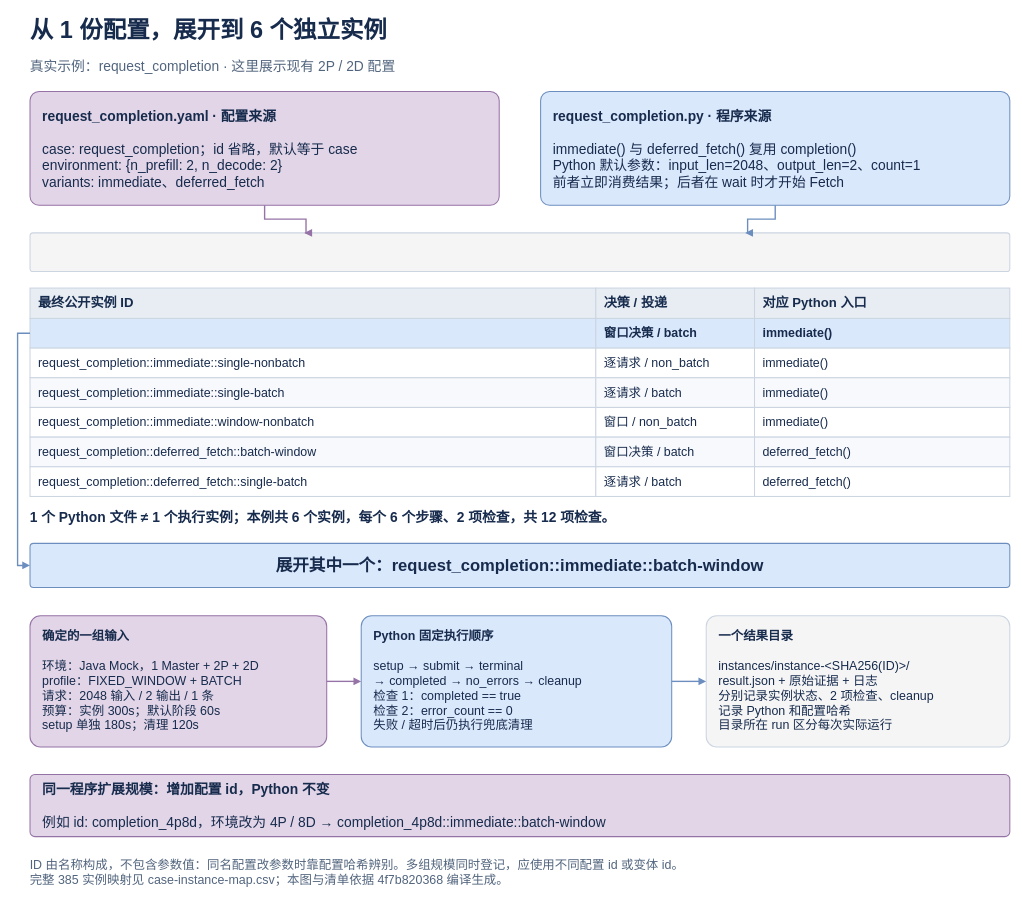
The diagram is 1022 pixels wide and 906 high, and some of its shapes have lost their labels. Each missing label, with the centre of its shape:
"Python 支持范围 + YAML 选择 → immediate 展开 4 个 profile，deferred_fetch 展开 2 个 profile" goes at [519,252].
"request_completion::immediate::batch-window" goes at [312,333].
